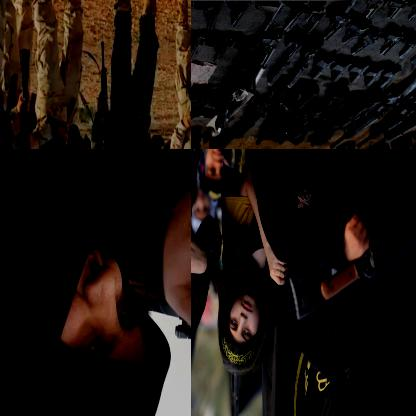pistol: (285, 41, 320, 91), (266, 38, 300, 83), (338, 16, 370, 52), (191, 0, 223, 35), (320, 10, 348, 47), (226, 34, 254, 70), (252, 0, 280, 34), (280, 1, 306, 36), (348, 29, 378, 59), (223, 0, 252, 31), (205, 32, 231, 66), (326, 54, 352, 85), (375, 28, 401, 59), (356, 61, 386, 87), (372, 65, 400, 92), (301, 6, 323, 40), (310, 54, 336, 82), (393, 35, 415, 65), (191, 27, 205, 69), (381, 0, 406, 23), (346, 60, 367, 86), (403, 40, 415, 70), (405, 0, 415, 23)
rifle: (317, 149, 415, 308), (111, 227, 190, 379), (325, 67, 415, 148), (253, 89, 315, 144), (87, 42, 119, 148), (277, 92, 343, 141), (355, 96, 415, 147), (219, 95, 272, 147), (322, 93, 377, 134), (18, 47, 38, 148), (0, 43, 17, 148), (191, 85, 215, 138), (46, 116, 83, 148)
